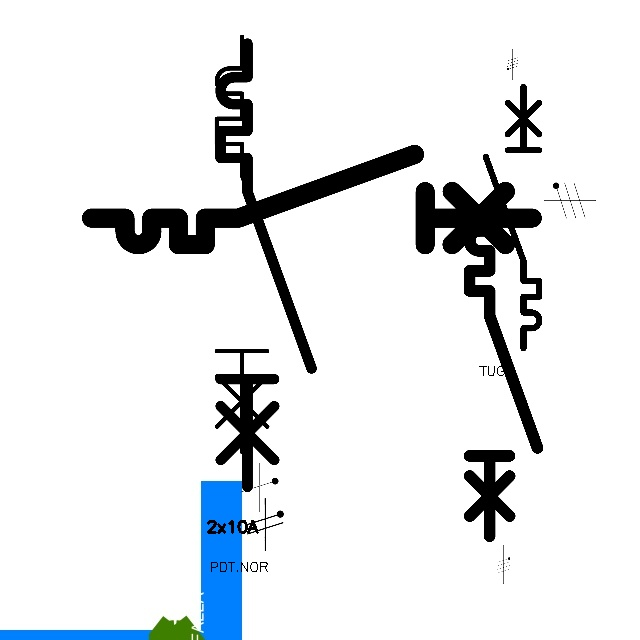interruptor_termomagnetico: (209, 32, 323, 498), (80, 143, 543, 256), (206, 26, 313, 462), (461, 197, 546, 544), (479, 80, 546, 355)
